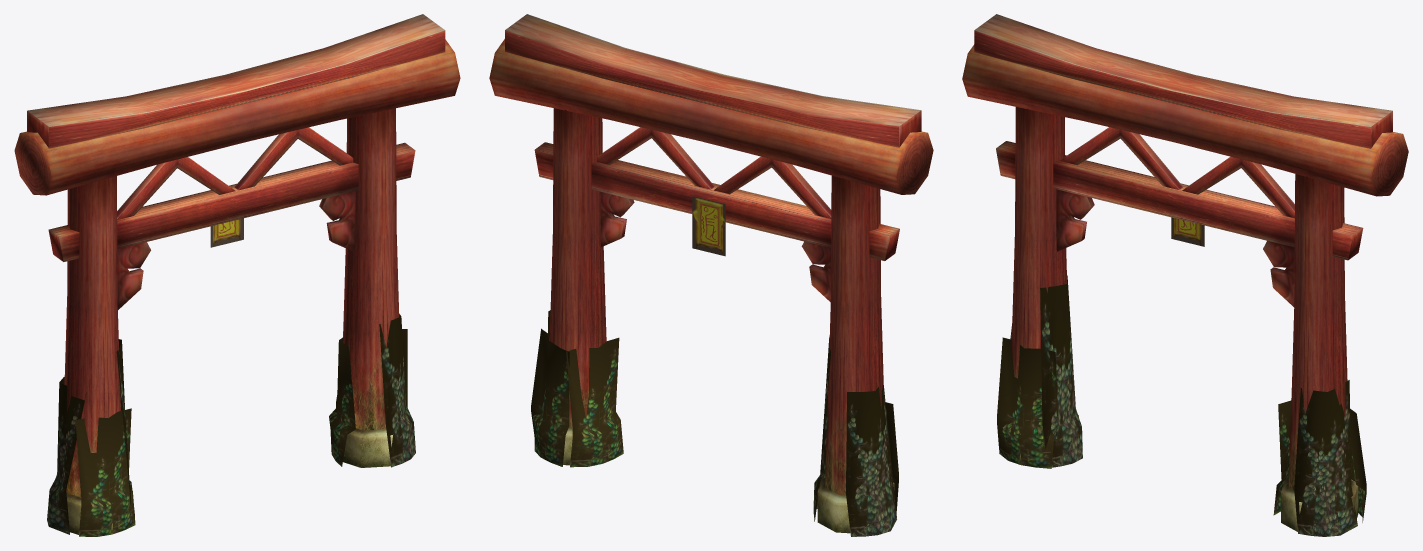
The model's file is a_SWFpillar03.glb.
The picture shows the model from 3 angles, left to right: view 1: azimuth 30°, elevation 25°; view 2: azimuth 150°, elevation 25°; view 3: azimuth 330°, elevation 25°; orthographic projection.
Parts seen in each view (by area): view 1: a_SWFpillar03; view 2: a_SWFpillar03; view 3: a_SWFpillar03.
Part boxes in pixels (left/top/right/bottom): a_SWFpillar03: left=14, top=14, right=460, bottom=536; a_SWFpillar03: left=489, top=14, right=933, bottom=536; a_SWFpillar03: left=962, top=14, right=1408, bottom=536.
Size of the model in its own units: 7.51 by 7.29 by 1.32.
Materials: 4 (4 with a texture image).
